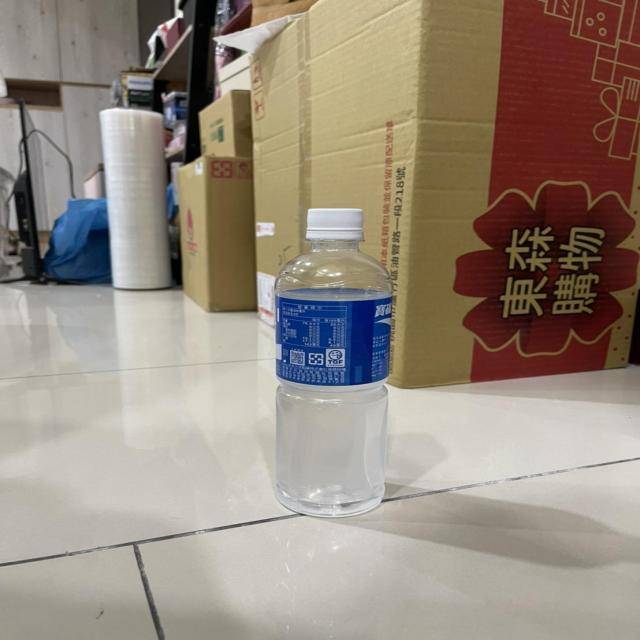bottle: (264, 198, 406, 533)
